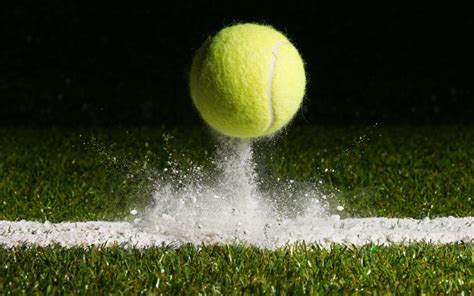tennis_ball: (189, 22, 307, 138)
